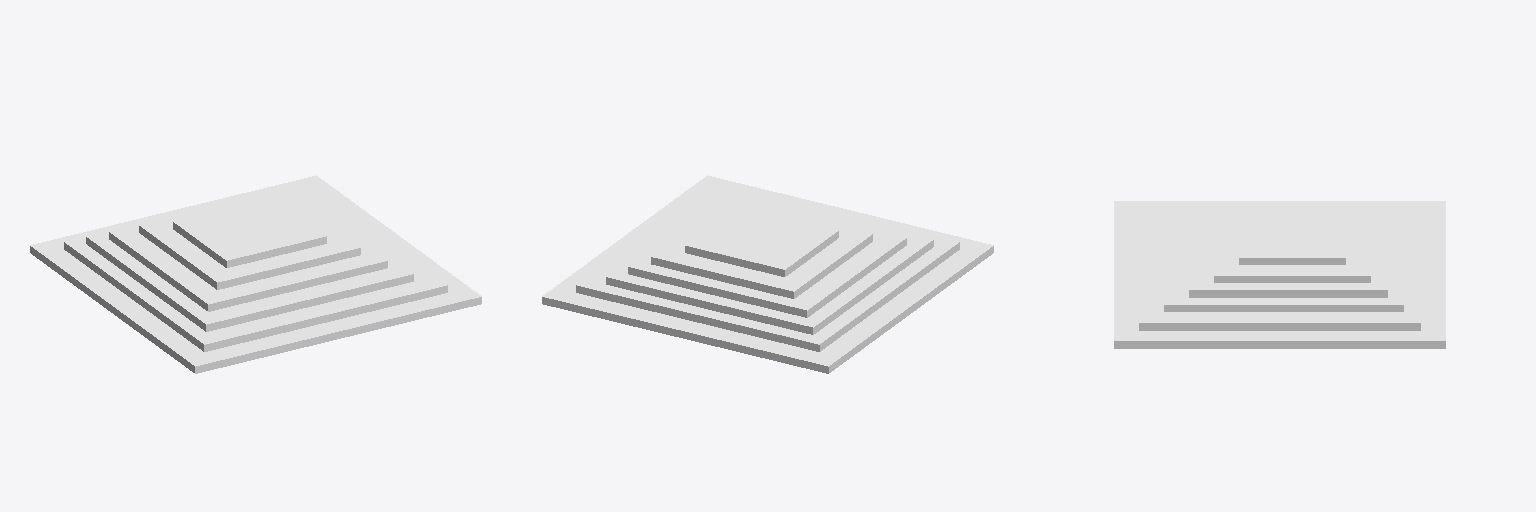
File: Techo.obj
3 views of the same model, side by side, from view 1: azimuth 30°, elevation 25°; view 2: azimuth 150°, elevation 25°; view 3: azimuth 270°, elevation 25° (orthographic).
Parts seen in each view (by area): view 1: object 1; view 2: object 1; view 3: object 1.
Boxes of the visible parts, x1=… form: object 1: x1=30, y1=175, x2=481, y2=373; object 1: x1=542, y1=175, x2=993, y2=373; object 1: x1=1114, y1=201, x2=1445, y2=348.
Bounding box in the file's own units: 4 × 0.6 × 4.